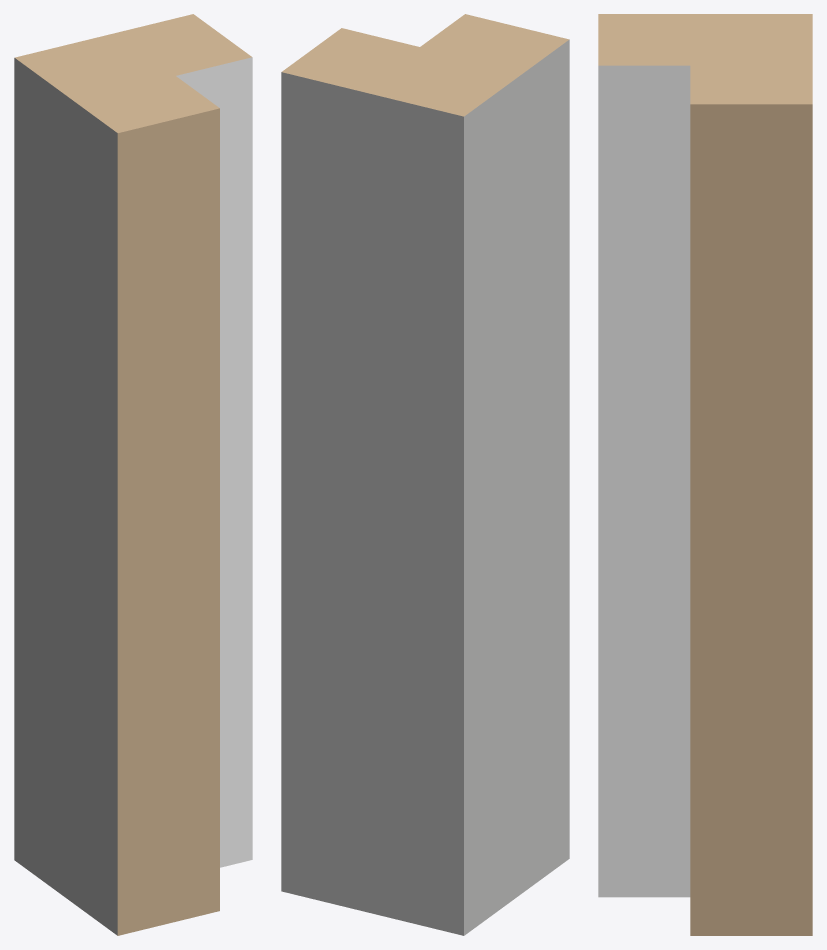
Rendered from house-wall-corner.glb.
3 views of the same model, side by side, from view 1: azimuth 30°, elevation 25°; view 2: azimuth 150°, elevation 25°; view 3: azimuth 270°, elevation 25° (orthographic). The views are drawn at different scales.
Visible parts, largest first — view 1: house-wall-corner; view 2: house-wall-corner; view 3: house-wall-corner.
Boxes of the visible parts, x1,y1,x2,y2 form: house-wall-corner: (14, 14, 252, 935); house-wall-corner: (281, 14, 569, 935); house-wall-corner: (598, 14, 812, 935).
Bounding box in the file's own units: 0.7 × 3 × 0.7.
1 material, 1 textured.
